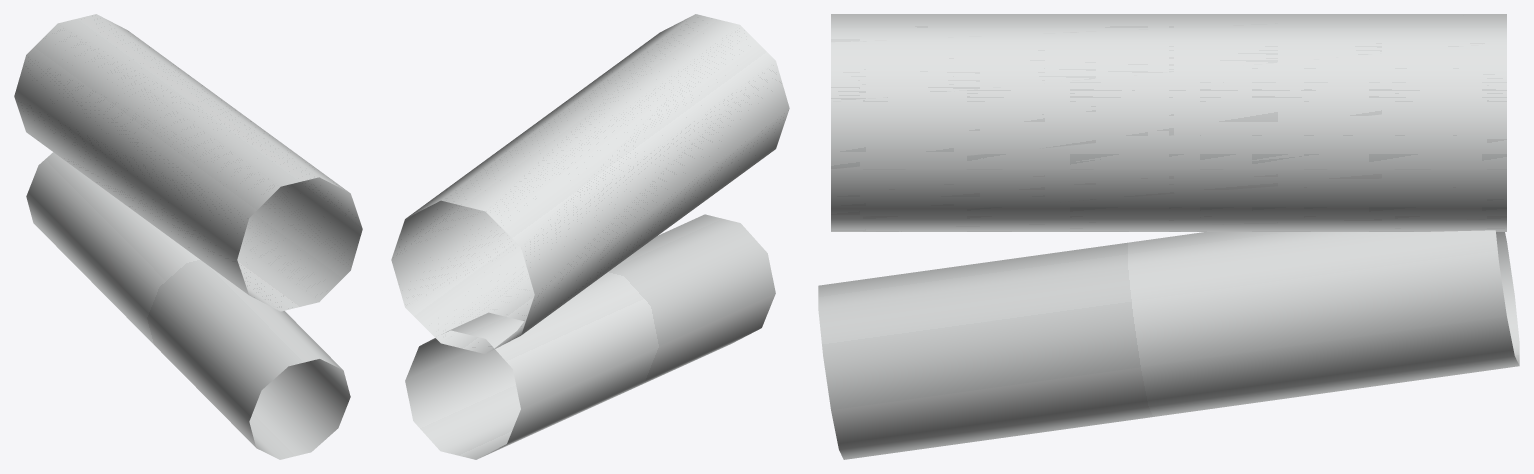
Rendered from trusssignalarm_level8_c10.obj.
3 views of the same model, side by side, from view 1: azimuth 30°, elevation 25°; view 2: azimuth 150°, elevation 25°; view 3: azimuth 270°, elevation 25° (orthographic). The views are drawn at different scales.
Visible parts, largest first — view 1: trusssignalarm_level8_c10; view 2: trusssignalarm_level8_c10; view 3: trusssignalarm_level8_c10.
Part boxes in pixels (x1=…): trusssignalarm_level8_c10: x1=14, y1=14, x2=362, y2=459; trusssignalarm_level8_c10: x1=391, y1=14, x2=789, y2=459; trusssignalarm_level8_c10: x1=818, y1=14, x2=1519, y2=459.
Bounding box in the file's own units: 0.325 × 0.6857 × 1.04.
